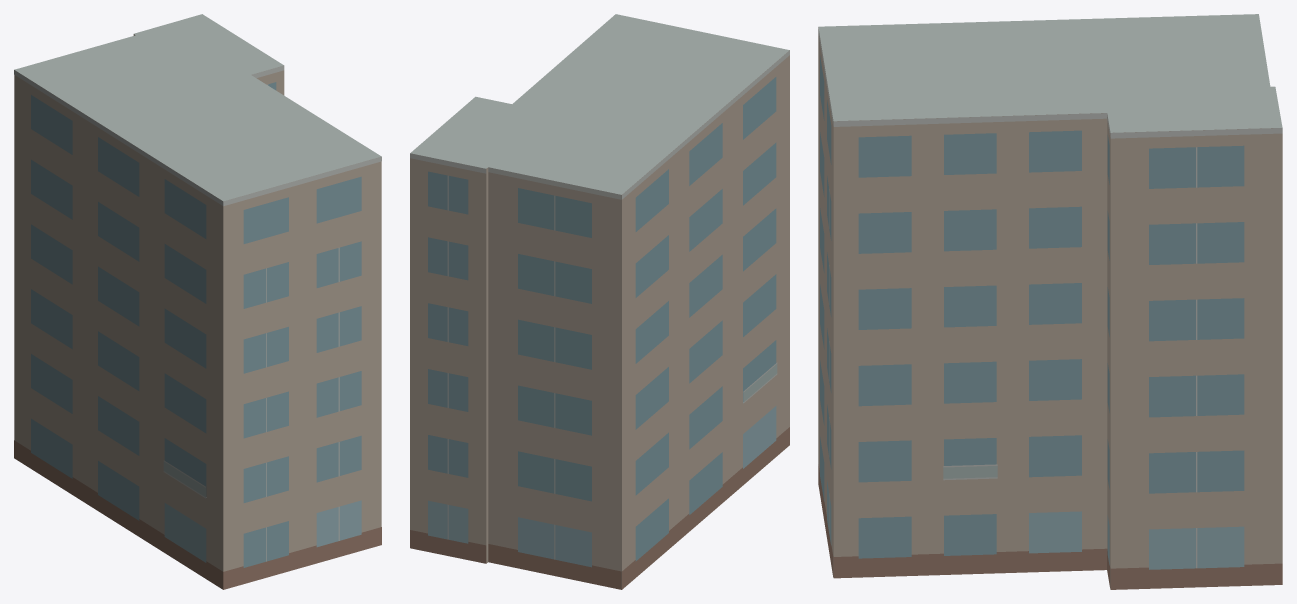
The model's file is survey-upis-33038375.glb.
3 renders of one model, left to right at view 1: azimuth 30°, elevation 25°; view 2: azimuth 150°, elevation 25°; view 3: azimuth 270°, elevation 25°, orthographic. The views are drawn at different scales.
Visible parts, largest first — view 1: survey-upis-33038375.tmp; view 2: survey-upis-33038375.tmp; view 3: survey-upis-33038375.tmp.
Boxes of the visible parts, bbox=[...] form: survey-upis-33038375.tmp: bbox=[14, 14, 381, 589]; survey-upis-33038375.tmp: bbox=[410, 14, 789, 589]; survey-upis-33038375.tmp: bbox=[818, 14, 1282, 589].
Size of the model in its own units: 10.8 by 19.35 by 17.82.
